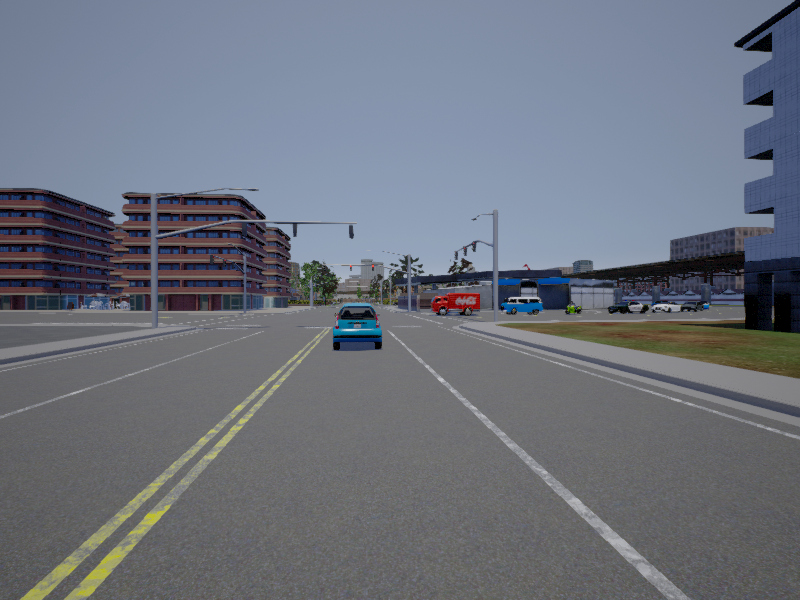Benign: (335, 302, 382, 348), (431, 294, 481, 317), (503, 296, 545, 315), (608, 301, 647, 314), (654, 299, 683, 314), (684, 301, 704, 313)
